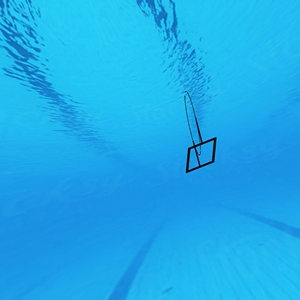circle: (175, 90, 219, 177)
